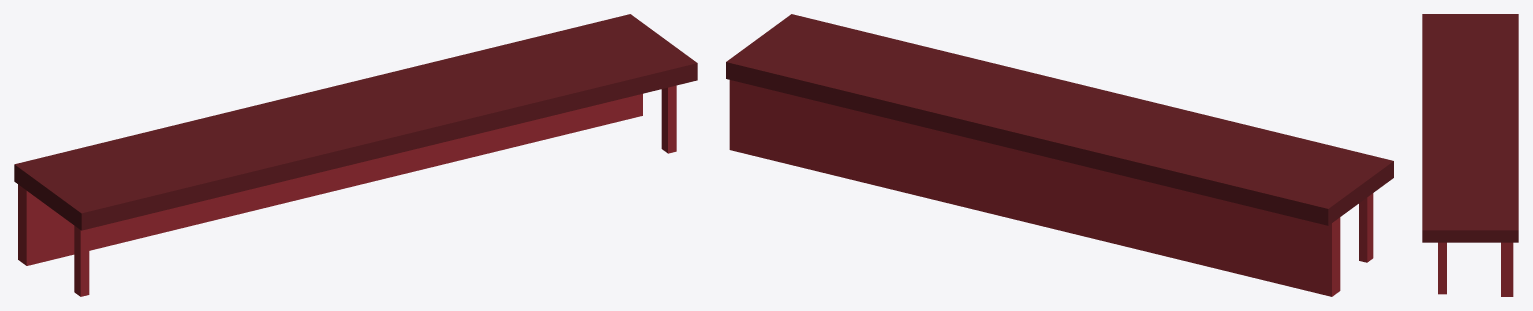
File: Office Desk.fbx
3 views of the same model, side by side, from view 1: azimuth 30°, elevation 25°; view 2: azimuth 150°, elevation 25°; view 3: azimuth 270°, elevation 25° (orthographic). The views are drawn at different scales.
Parts seen in each view (by area): view 1: Office Desk; view 2: Office Desk; view 3: Office Desk.
Boxes of the visible parts, x1,y1,x2,y2 form: Office Desk: [14, 14, 697, 296]; Office Desk: [726, 14, 1393, 296]; Office Desk: [1422, 14, 1518, 296].
Size of the model in its own units: 618 by 90.12 by 117.
